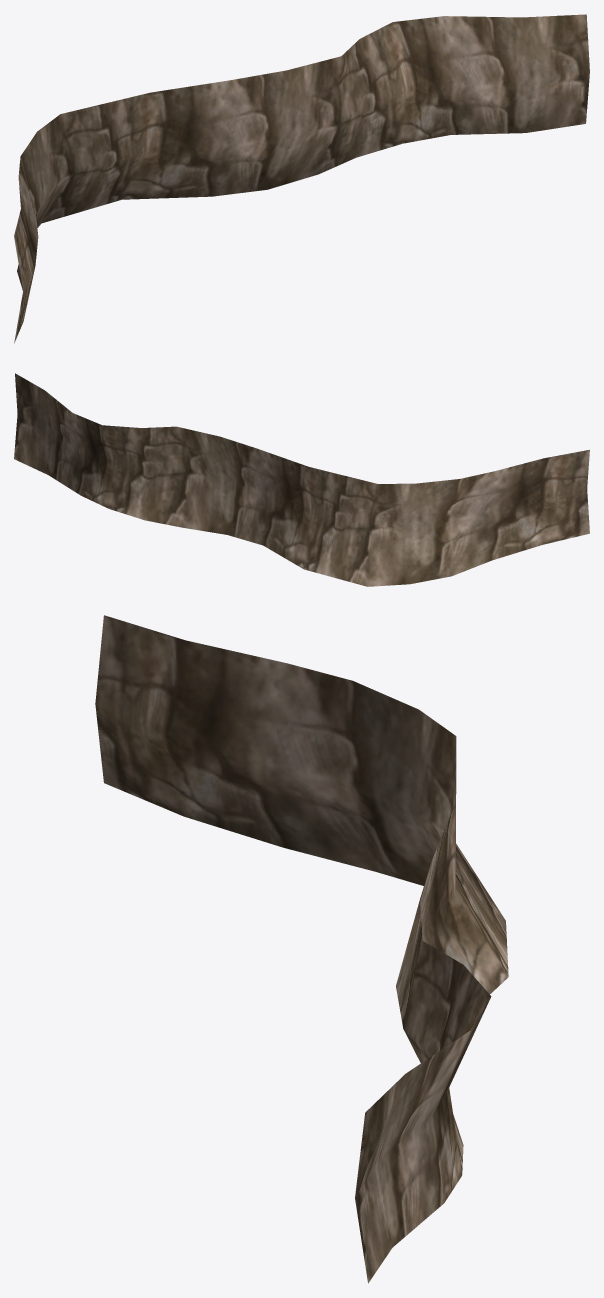
File: EKH_ENTRANCE_PS_EN_WALL383736.fbx
The picture shows the model from 3 angles, top to bottom: view 1: azimuth 30°, elevation 25°; view 2: azimuth 150°, elevation 25°; view 3: azimuth 270°, elevation 25°; orthographic projection. The views are drawn at different scales.
Parts seen in each view (by area): view 1: EKH_ENTRANCE_PS_EN_WALL383736; view 2: EKH_ENTRANCE_PS_EN_WALL383736; view 3: EKH_ENTRANCE_PS_EN_WALL383736.
Part boxes in pixels (x1,y1,x2,y2): EKH_ENTRANCE_PS_EN_WALL383736: [14, 14, 589, 343]; EKH_ENTRANCE_PS_EN_WALL383736: [14, 373, 589, 586]; EKH_ENTRANCE_PS_EN_WALL383736: [95, 615, 508, 1283].
Size of the model in its own units: 117739 by 20756 by 41320.
1 material, 1 textured.
